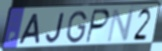2: (133, 8, 152, 42)
A: (17, 13, 41, 46)
G: (65, 10, 88, 45)
J: (45, 12, 66, 44)
N: (105, 7, 137, 44)
P: (84, 9, 111, 45)
